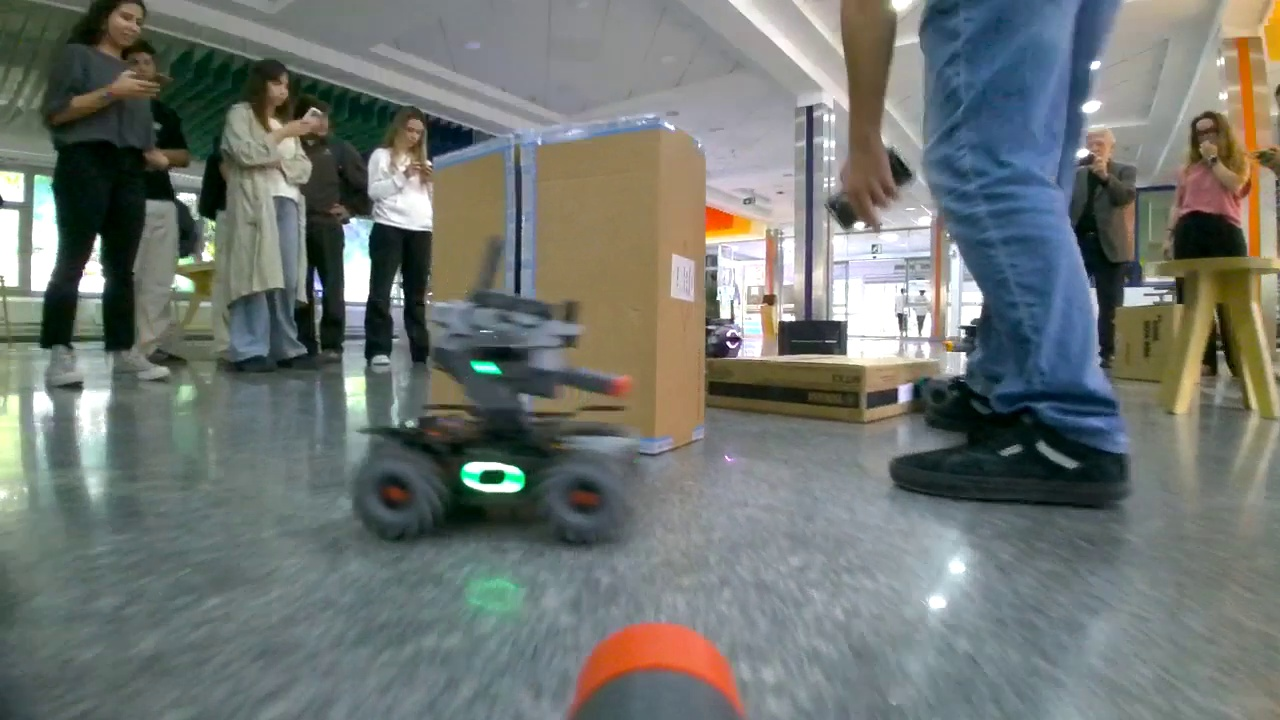robot: (349, 307, 641, 549)
